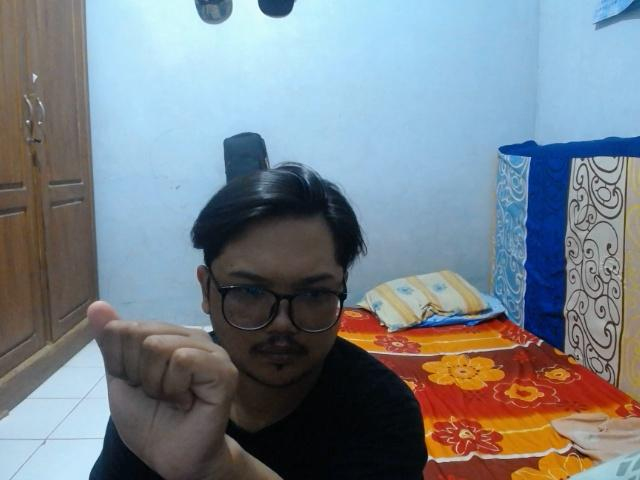Grab: (81, 297, 246, 479)
